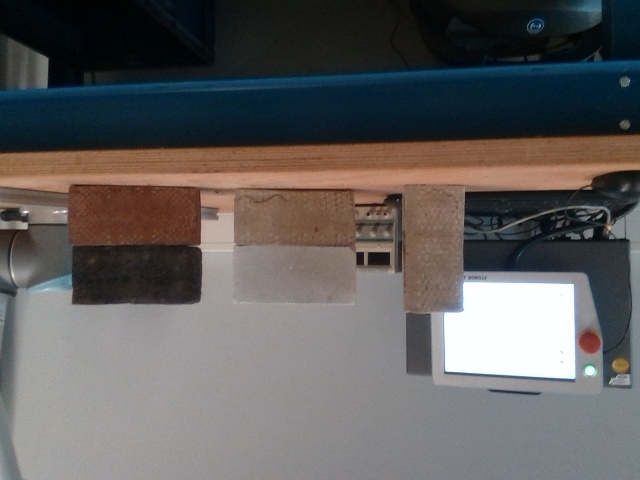brick: (404, 186, 464, 310), (73, 248, 200, 303), (69, 188, 196, 243), (231, 249, 357, 304), (237, 190, 354, 245)
